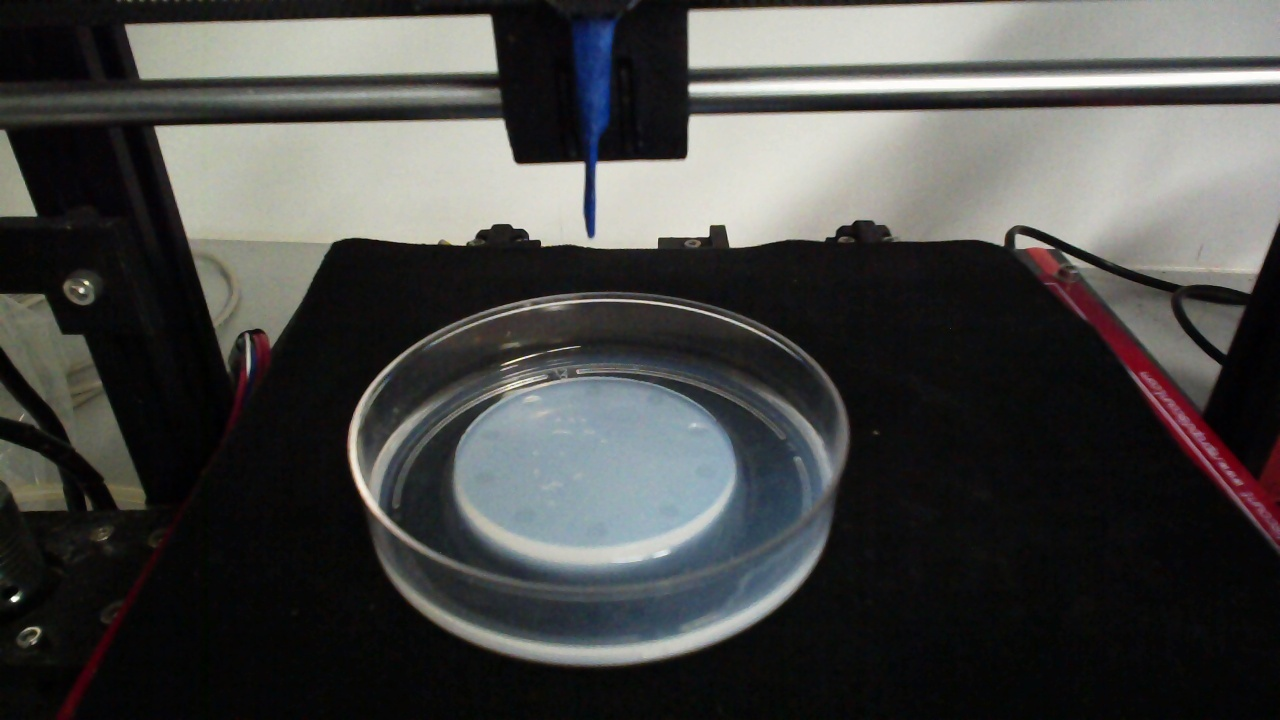groove: (509, 504, 537, 529), (581, 521, 611, 540), (692, 463, 720, 482), (472, 468, 499, 487), (684, 421, 712, 439), (656, 502, 683, 520), (520, 394, 543, 413), (645, 390, 669, 407), (582, 383, 604, 400), (479, 427, 503, 442)
needle: (569, 23, 611, 240)
